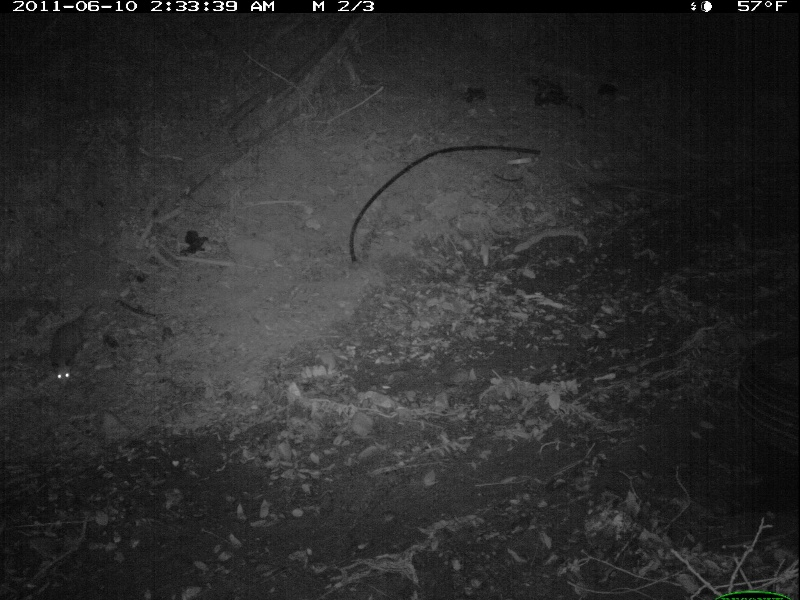opossum: (54, 299, 159, 382)
